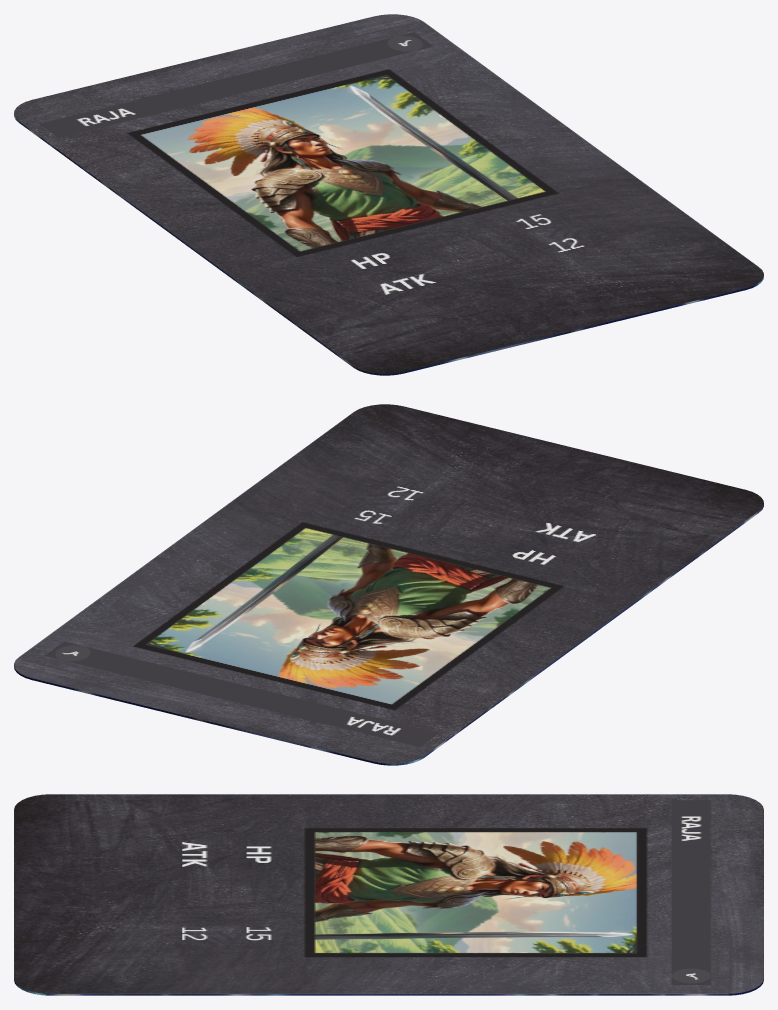
File: Raja(Disappear).glb
The picture shows the model from 3 angles, top to bottom: view 1: azimuth 30°, elevation 25°; view 2: azimuth 150°, elevation 25°; view 3: azimuth 270°, elevation 25°; orthographic projection.
Parts seen in each view (by area): view 1: Card; view 2: Card; view 3: Card.
Boxes of the visible parts, x1,y1,x2,y2 form: Card: (14,14,763,375); Card: (14,404,763,765); Card: (14,794,763,995).
Bounding box in the file's own units: 0.056 × 0.00024 × 0.0889.
2 materials, 2 textured.
